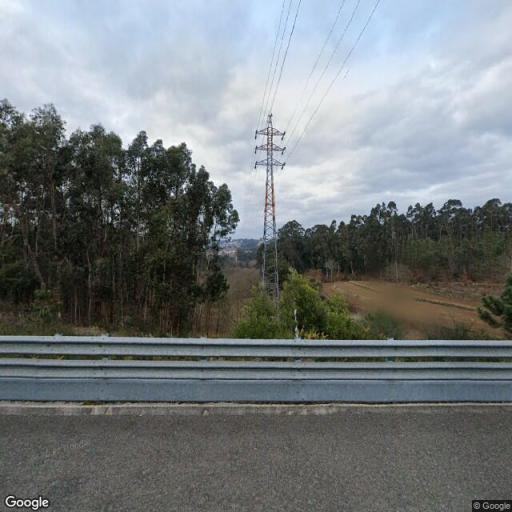ss_3: (252, 113, 286, 298)
